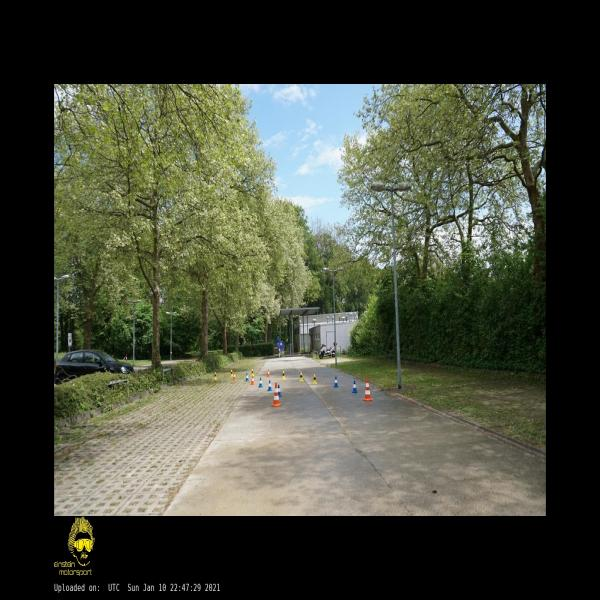blue_cone: (352, 380, 358, 393), (277, 384, 282, 397), (267, 380, 272, 391), (258, 378, 263, 387), (334, 377, 338, 387), (245, 373, 249, 381)
large_orange_cone: (271, 382, 281, 406), (363, 377, 372, 401)
orange_cone: (250, 376, 255, 384), (266, 369, 270, 377), (232, 372, 236, 380)
yellow_cone: (312, 374, 317, 384), (281, 371, 286, 380), (299, 372, 303, 382), (213, 372, 217, 380), (230, 370, 233, 378), (251, 369, 254, 376)
